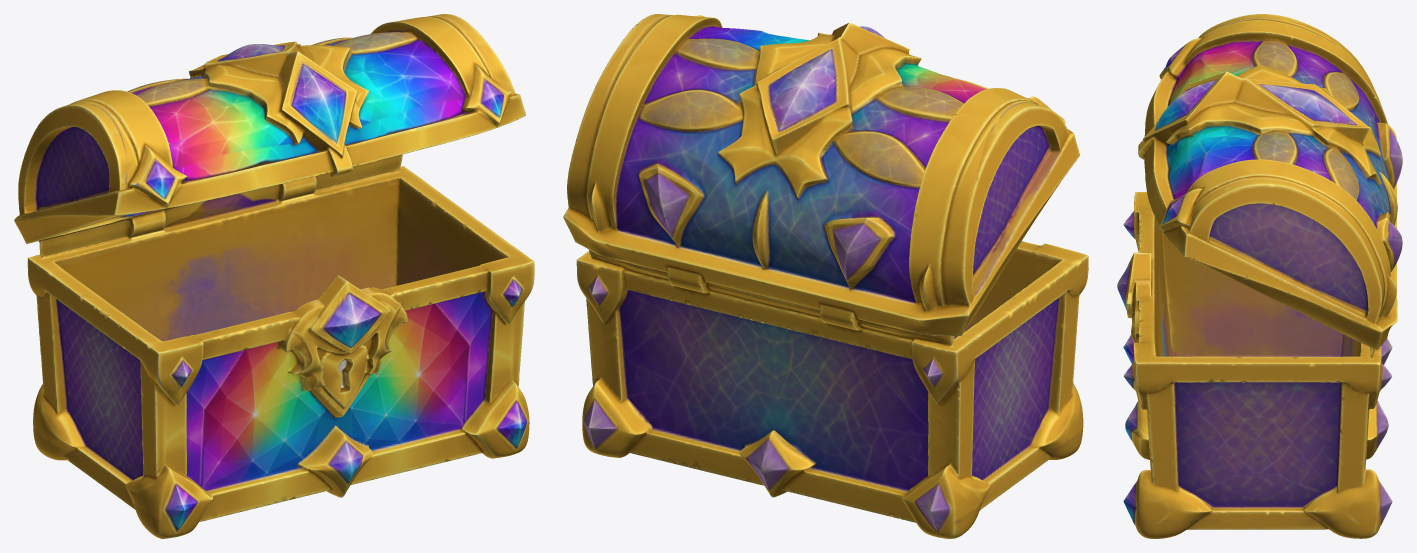
Rendered from ガチャ箱開3D.glb.
3 renders of one model, left to right at view 1: azimuth 30°, elevation 25°; view 2: azimuth 150°, elevation 25°; view 3: azimuth 270°, elevation 25°, orthographic. The views are drawn at different scales.
Bounding box in the file's own units: 1.9 × 1.84 × 1.22.
1 material, 1 textured.
